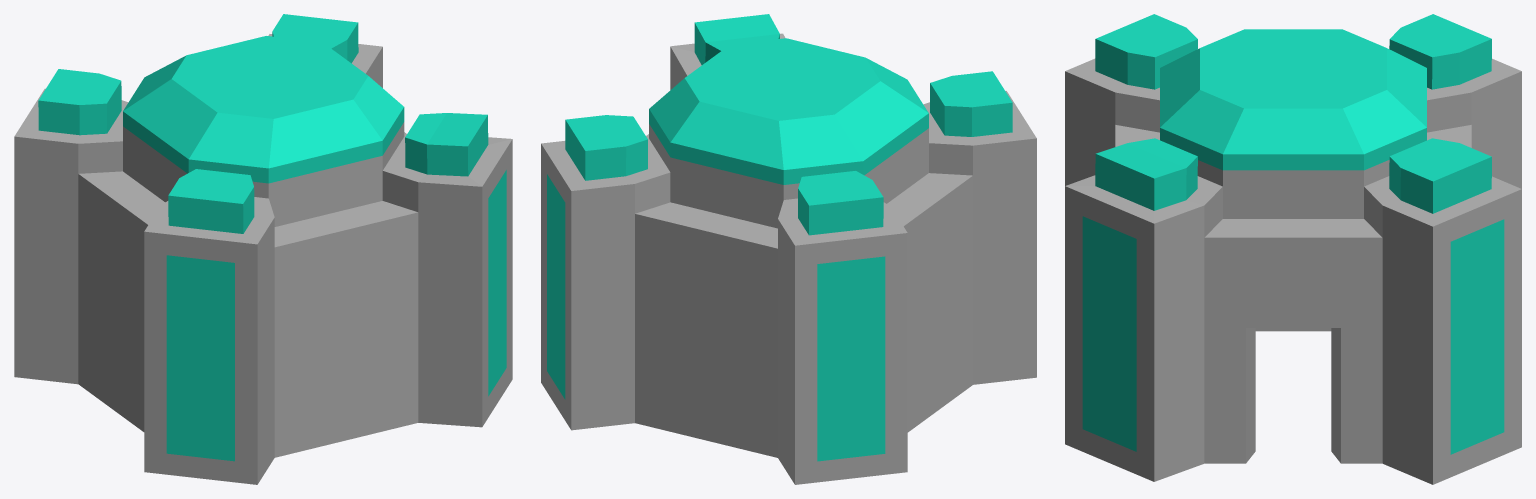
The model's file is Warrior Tower lev 4.2.fbx.
The picture shows the model from 3 angles, left to right: view 1: azimuth 30°, elevation 25°; view 2: azimuth 150°, elevation 25°; view 3: azimuth 270°, elevation 25°; orthographic projection. The views are drawn at different scales.
Parts seen in each view (by area): view 1: Torre Wizzard.031; view 2: Torre Wizzard.031; view 3: Torre Wizzard.031.
Part boxes in pixels (x1=…): Torre Wizzard.031: x1=14, y1=14, x2=512, y2=484; Torre Wizzard.031: x1=541, y1=14, x2=1036, y2=484; Torre Wizzard.031: x1=1065, y1=14, x2=1521, y2=484.
Size of the model in its own units: 12.83 by 10 by 12.83.
